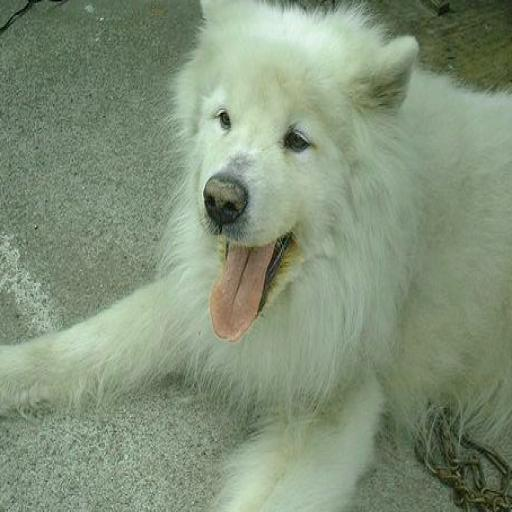dog_face: (176, 0, 414, 324)
